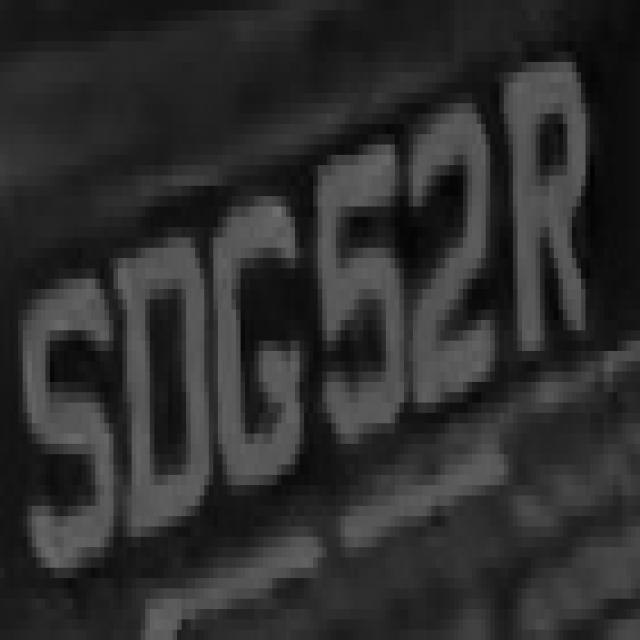2: (404, 124, 499, 423)
5: (304, 145, 400, 454)
D: (122, 217, 208, 568)
G: (200, 186, 308, 495)
R: (508, 52, 600, 392)
S: (18, 258, 109, 578)
